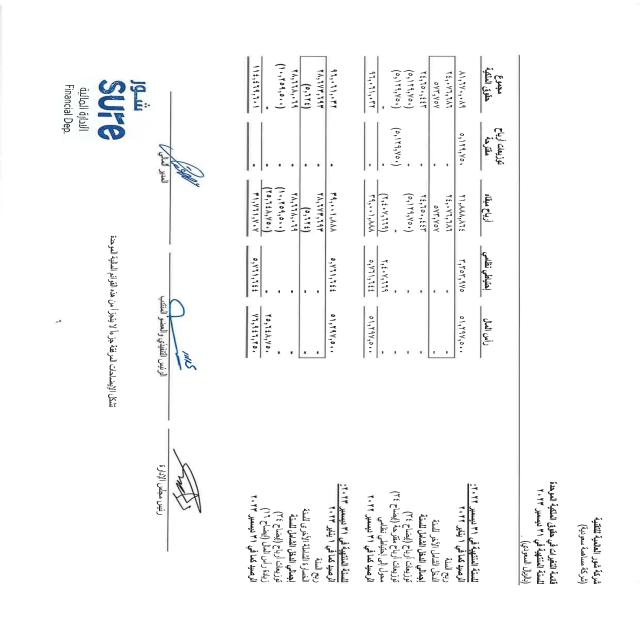financial_sheets: (544, 482, 564, 588)
table: (210, 58, 508, 392)
